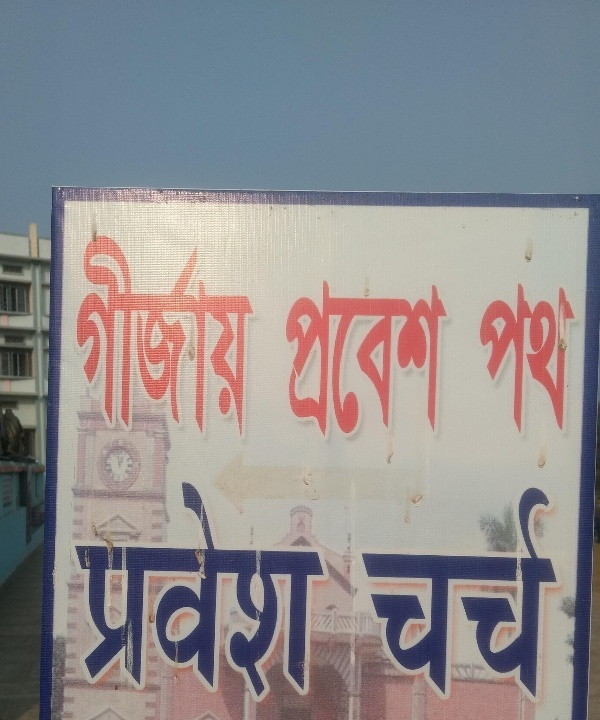text: (321, 481, 337, 710), (81, 481, 96, 710), (97, 481, 112, 710), (113, 481, 128, 710), (129, 481, 144, 710), (145, 481, 160, 710), (161, 481, 176, 710), (177, 481, 192, 710), (193, 481, 208, 710), (209, 481, 224, 710), (225, 481, 240, 710), (241, 481, 256, 710), (257, 481, 272, 710), (273, 481, 288, 710), (289, 481, 304, 710), (305, 481, 320, 710), (369, 483, 384, 704), (385, 483, 400, 704), (401, 483, 416, 704), (417, 483, 432, 704), (433, 483, 448, 704), (449, 483, 464, 704), (465, 483, 480, 704), (481, 483, 496, 704), (497, 483, 512, 704), (513, 483, 528, 704), (529, 483, 544, 704), (545, 483, 560, 704), (81, 227, 96, 439), (97, 227, 112, 439), (113, 227, 128, 439), (129, 227, 144, 439), (145, 227, 160, 439), (161, 227, 176, 439), (177, 227, 192, 439), (193, 227, 208, 439), (209, 227, 224, 439), (225, 227, 240, 439), (241, 227, 256, 439), (289, 274, 304, 440), (305, 274, 320, 440), (321, 274, 336, 440), (337, 274, 352, 440), (353, 274, 368, 440), (369, 274, 384, 440), (385, 274, 400, 440), (401, 274, 416, 440), (417, 274, 432, 440), (433, 274, 448, 440), (497, 278, 512, 438), (513, 278, 528, 438), (529, 278, 544, 438), (545, 278, 560, 438), (561, 278, 576, 438), (482, 278, 496, 438), (359, 483, 368, 704), (561, 483, 567, 704), (449, 274, 455, 440), (283, 274, 288, 440), (577, 278, 581, 438), (257, 227, 260, 439), (79, 227, 80, 439)
